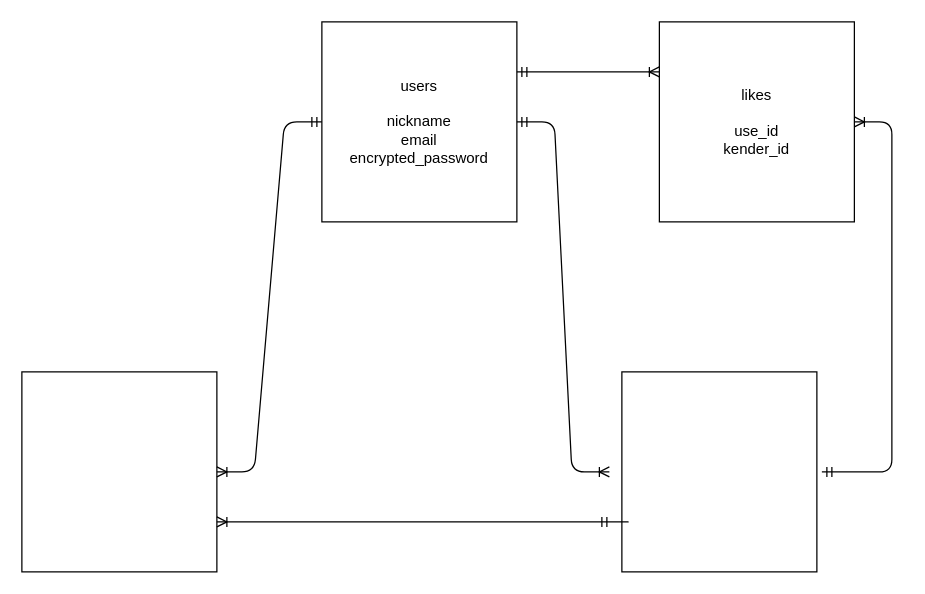
Some shapes in this 925 by 594 pixel diagram are drawn without their labels. Here are the shapes that lost their labels. From the top down, the centre of each, then its label:
At (x=119, y=471): "messages text user_id kender_id".
At (x=719, y=471): "kenders title image text user_id category_id".
